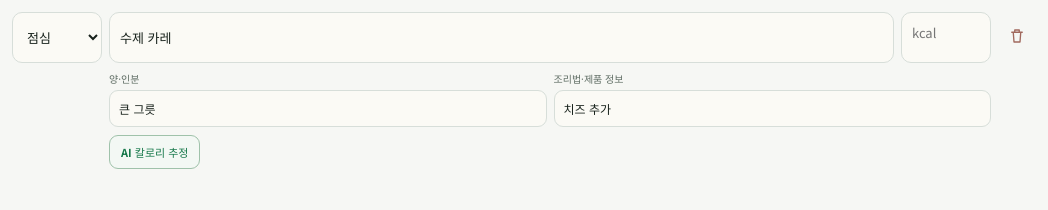
Test case: FoodCalorieEstimator › preserves the entered food context when estimation fails
The image size is (1048, 210).
Click the button "AI 칼로리 추정" at (155, 152), box [109, 135, 200, 169]
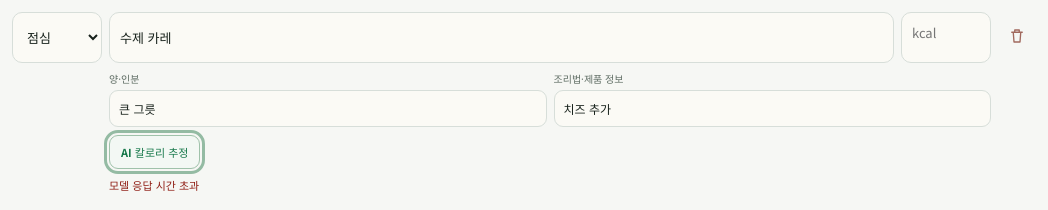
Expected: the field named "식사 1 이름" holds "수제 카레", [109, 12, 894, 63]
Expected: the message reads "모델 응답 시간 초과", [109, 177, 199, 193]
